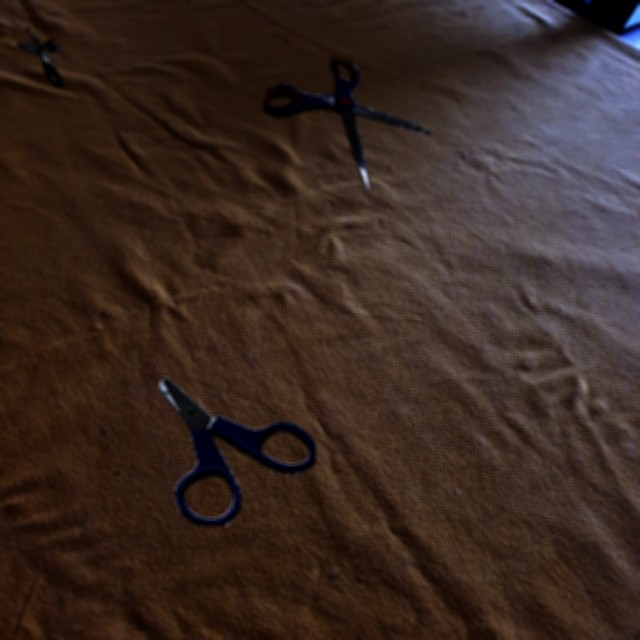scissors: (263, 40, 432, 189), (159, 377, 316, 526), (17, 26, 63, 88)
